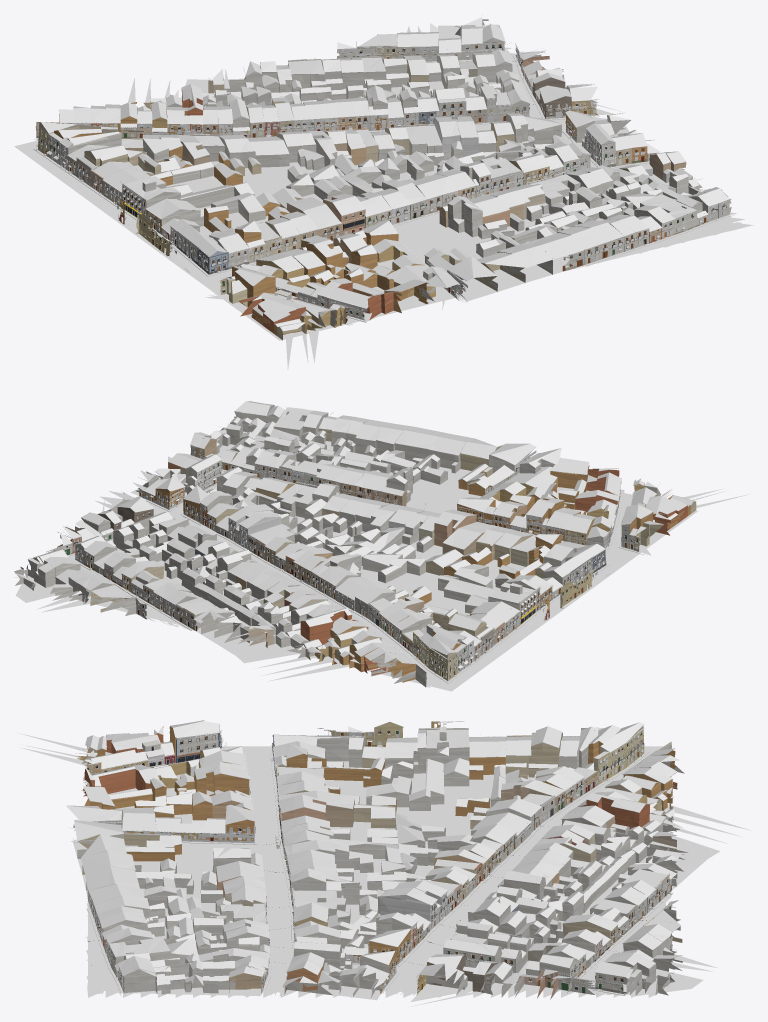
The model's file is zona_0_-1.glb.
3 renders of one model, top to bottom at view 1: azimuth 30°, elevation 25°; view 2: azimuth 150°, elevation 25°; view 3: azimuth 270°, elevation 25°, orthographic. The views are drawn at different scales.
Parts seen in each view (by area): view 1: z_tejados_0_-1, z_casas_0_-1, z_fachadas_0_-1, z_calle_0_-1, z_casas_planas_0_-1, z_suelo_0_-1; view 2: z_tejados_0_-1, z_casas_0_-1, z_calle_0_-1, z_fachadas_0_-1, z_casas_planas_0_-1, z_suelo_0_-1; view 3: z_tejados_0_-1, z_casas_0_-1, z_calle_0_-1, z_casas_planas_0_-1, z_fachadas_0_-1, z_suelo_0_-1.
Part boxes in pixels (left/top/right/bottom): z_tejados_0_-1: left=40, top=17, right=729, bottom=331; z_casas_0_-1: left=38, top=26, right=731, bottom=340; z_fachadas_0_-1: left=35, top=42, right=726, bottom=323; z_calle_0_-1: left=14, top=25, right=753, bottom=369; z_casas_planas_0_-1: left=37, top=19, right=697, bottom=279; z_suelo_0_-1: left=25, top=50, right=747, bottom=324; z_tejados_0_-1: left=15, top=401, right=695, bottom=664; z_casas_0_-1: left=14, top=405, right=696, bottom=682; z_calle_0_-1: left=15, top=431, right=750, bottom=691; z_fachadas_0_-1: left=46, top=407, right=645, bottom=686; z_casas_planas_0_-1: left=14, top=407, right=575, bottom=687; z_suelo_0_-1: left=69, top=471, right=637, bottom=687; z_tejados_0_-1: left=66, top=720, right=684, bottom=988; z_casas_0_-1: left=77, top=721, right=684, bottom=999; z_calle_0_-1: left=18, top=733, right=751, bottom=1007; z_casas_planas_0_-1: left=108, top=726, right=696, bottom=995; z_fachadas_0_-1: left=73, top=721, right=672, bottom=994; z_suelo_0_-1: left=85, top=747, right=672, bottom=996.
Size of the model in its own units: 224 by 12.94 by 253.
